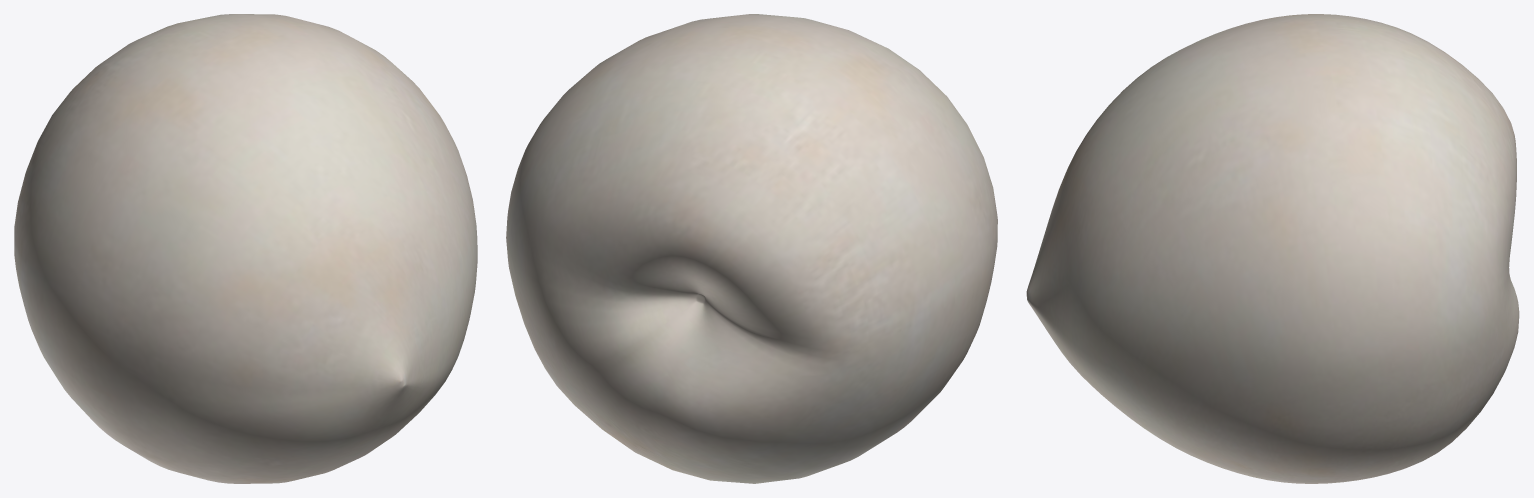
File: HoneyPeachFlesh.obj
3 renders of one model, left to right at view 1: azimuth 30°, elevation 25°; view 2: azimuth 150°, elevation 25°; view 3: azimuth 270°, elevation 25°, orthographic.
Visible parts, largest first — view 1: HoneyPeachFlesh; view 2: HoneyPeachFlesh; view 3: HoneyPeachFlesh.
Boxes of the visible parts, box(x1,y1,x2,y2) form: HoneyPeachFlesh: box(14, 14, 477, 483); HoneyPeachFlesh: box(506, 14, 997, 483); HoneyPeachFlesh: box(1026, 14, 1519, 483).
Size of the model in its own units: 0.1031 by 0.1005 by 0.1054.
1 material, 1 textured.
